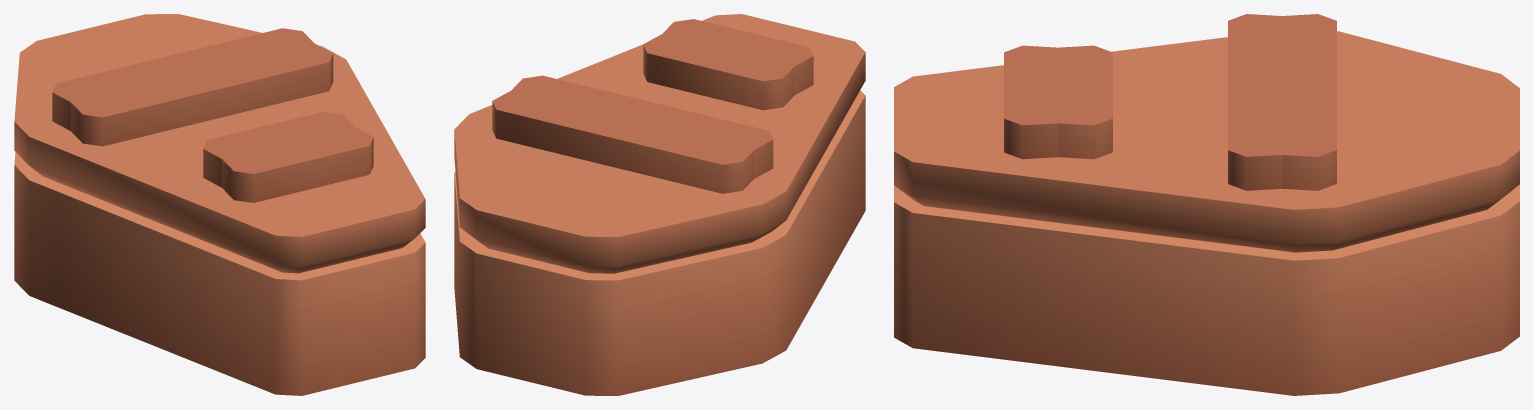
File: grave.coffin.glb
3 renders of one model, left to right at view 1: azimuth 30°, elevation 25°; view 2: azimuth 150°, elevation 25°; view 3: azimuth 270°, elevation 25°, orthographic. The views are drawn at different scales.
Visible parts, largest first — view 1: lid, coffin; view 2: lid, coffin; view 3: lid, coffin.
Boxes of the visible parts, left/top/right/bottom form: lid: left=14, top=14, right=425, bottom=273; coffin: left=14, top=152, right=425, bottom=395; lid: left=454, top=14, right=865, bottom=273; coffin: left=454, top=90, right=865, bottom=395; lid: left=894, top=14, right=1519, bottom=252; coffin: left=894, top=184, right=1519, bottom=395.
Bounding box in the file's own units: 1.37 × 0.7756 × 2.
Materials: 1 (1 with a texture image).
